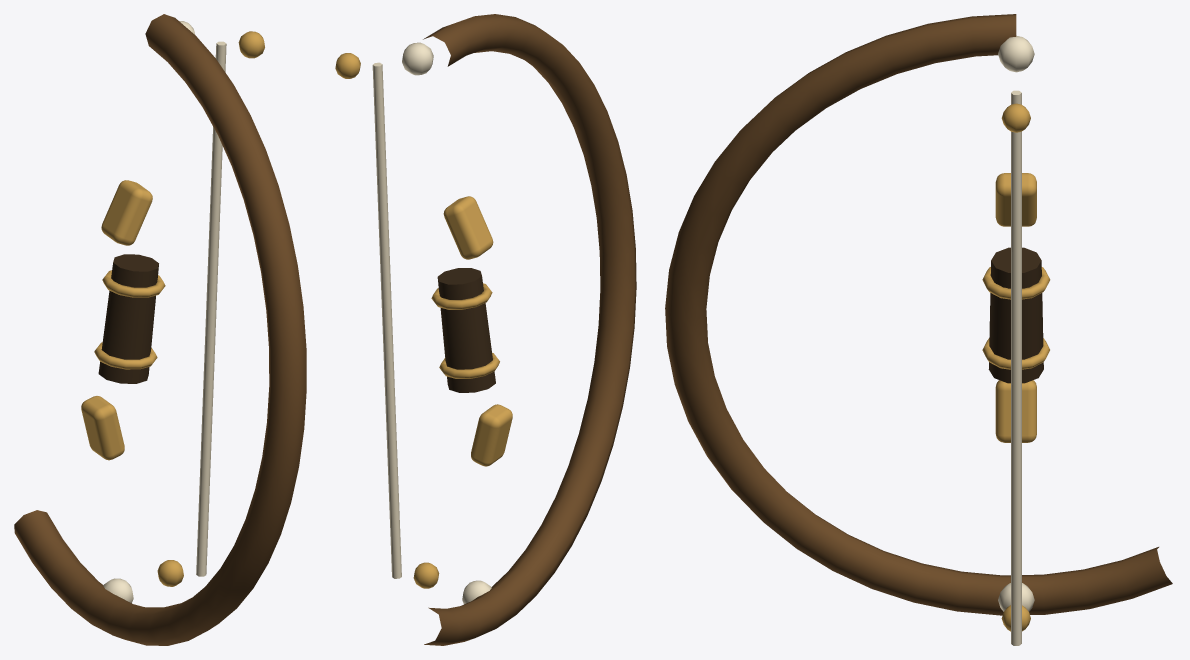
The model's file is weapon_bow.glb.
3 renders of one model, left to right at view 1: azimuth 30°, elevation 25°; view 2: azimuth 150°, elevation 25°; view 3: azimuth 270°, elevation 25°, orthographic. The views are drawn at different scales.
Parts seen in each view (by area): view 1: blade_mesh, weapon_grip, weapon_bow, bow_plate_1.12, bow_plate_0.58, bow_grip_ring_1, bow_grip_ring_0, bow_nock_top, bow_nock_bottom, bow_tip_lower; view 2: blade_mesh, weapon_bow, weapon_grip, bow_plate_1.12, bow_plate_0.58, weapon_rune, bow_grip_ring_1, bow_grip_ring_0, bow_nock_bottom, bow_nock_top; view 3: blade_mesh, weapon_bow, weapon_grip, bow_plate_0.58, bow_plate_1.12, weapon_rune, bow_grip_ring_1, bow_grip_ring_0.
Part boxes in pixels (x1,y1,x2,y2): blade_mesh: (14,14,306,645); weapon_grip: (98,254,158,383); weapon_bow: (196,41,226,576); bow_plate_1.12: (101,180,152,245); bow_plate_0.58: (81,396,124,460); bow_grip_ring_1: (102,270,165,297); bow_grip_ring_0: (94,342,157,369); bow_nock_top: (238,31,264,58); bow_nock_bottom: (157,560,183,586); bow_tip_lower: (103,578,133,603); blade_mesh: (423,14,636,645); weapon_bow: (372,62,401,578); weapon_grip: (437,268,495,392); bow_plate_1.12: (443,196,493,259); bow_plate_0.58: (471,404,512,466); weapon_rune: (402,42,433,75); bow_grip_ring_1: (431,283,492,309); bow_grip_ring_0: (439,352,499,378); bow_nock_bottom: (413,562,439,588); bow_nock_top: (335,53,360,78); blade_mesh: (665,14,1172,615); weapon_bow: (1011,90,1021,645); weapon_grip: (988,247,1043,383); bow_plate_0.58: (995,380,1036,442); bow_plate_1.12: (995,173,1036,226); weapon_rune: (998,35,1034,72); bow_grip_ring_1: (982,267,1050,299); bow_grip_ring_0: (982,338,1049,369).
Bounding box in the file's own units: 0.4898 × 1.52 × 1.11.
